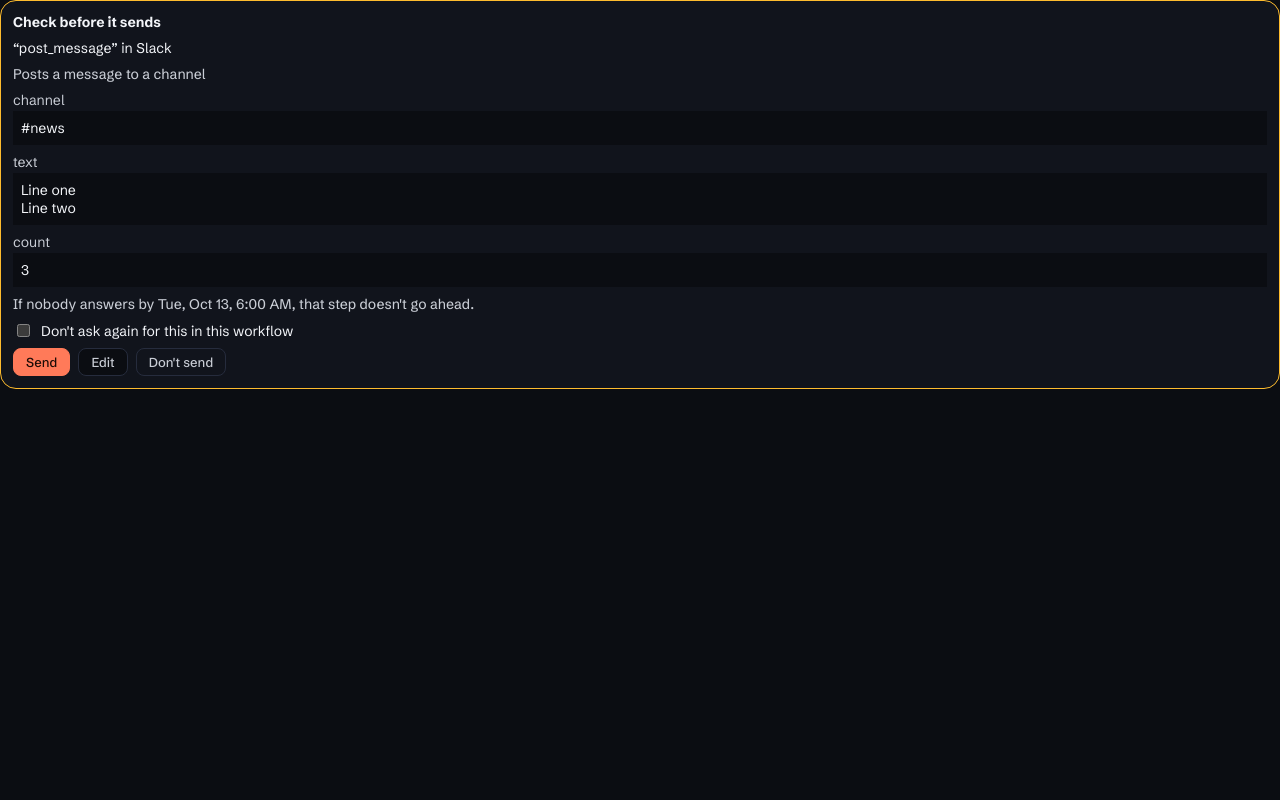
Test case: ActionCard › blocks sending invalid JSON and shows why
The image size is (1280, 800).
Click the button "Edit" at (103, 362), box x1=78 y1=348 x2=128 y2=376
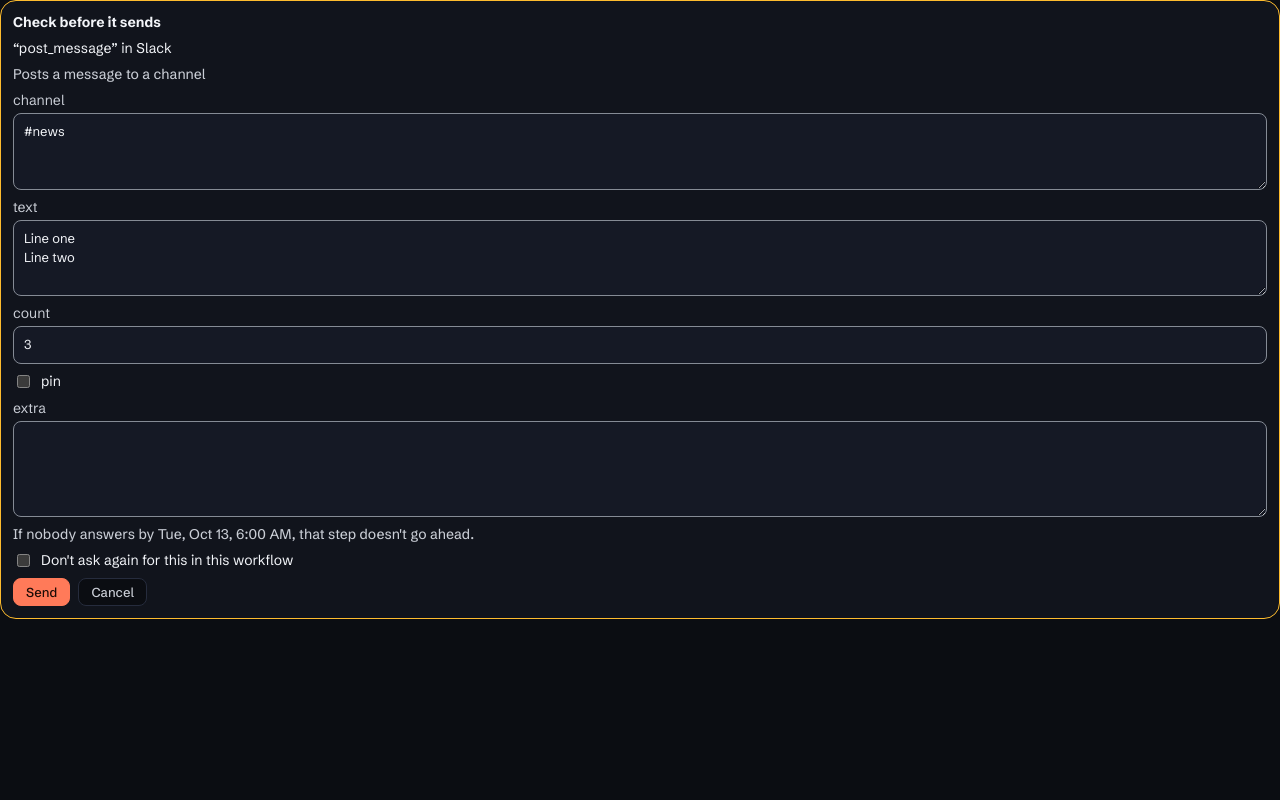
Type "[1," into the text box labelled "extra" at (640, 468), box x1=13 y1=420 x2=1267 y2=516
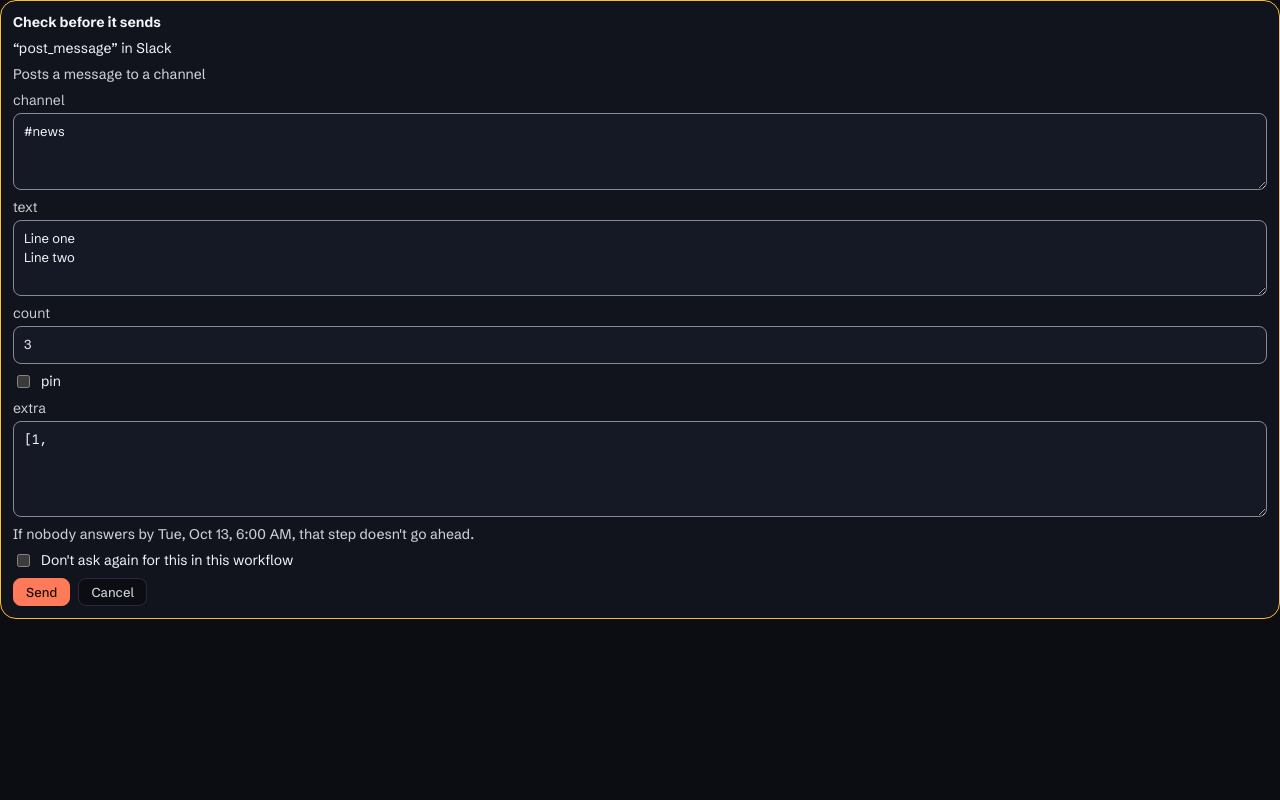
Click the button "Send" at (42, 592), box x1=13 y1=578 x2=70 y2=606
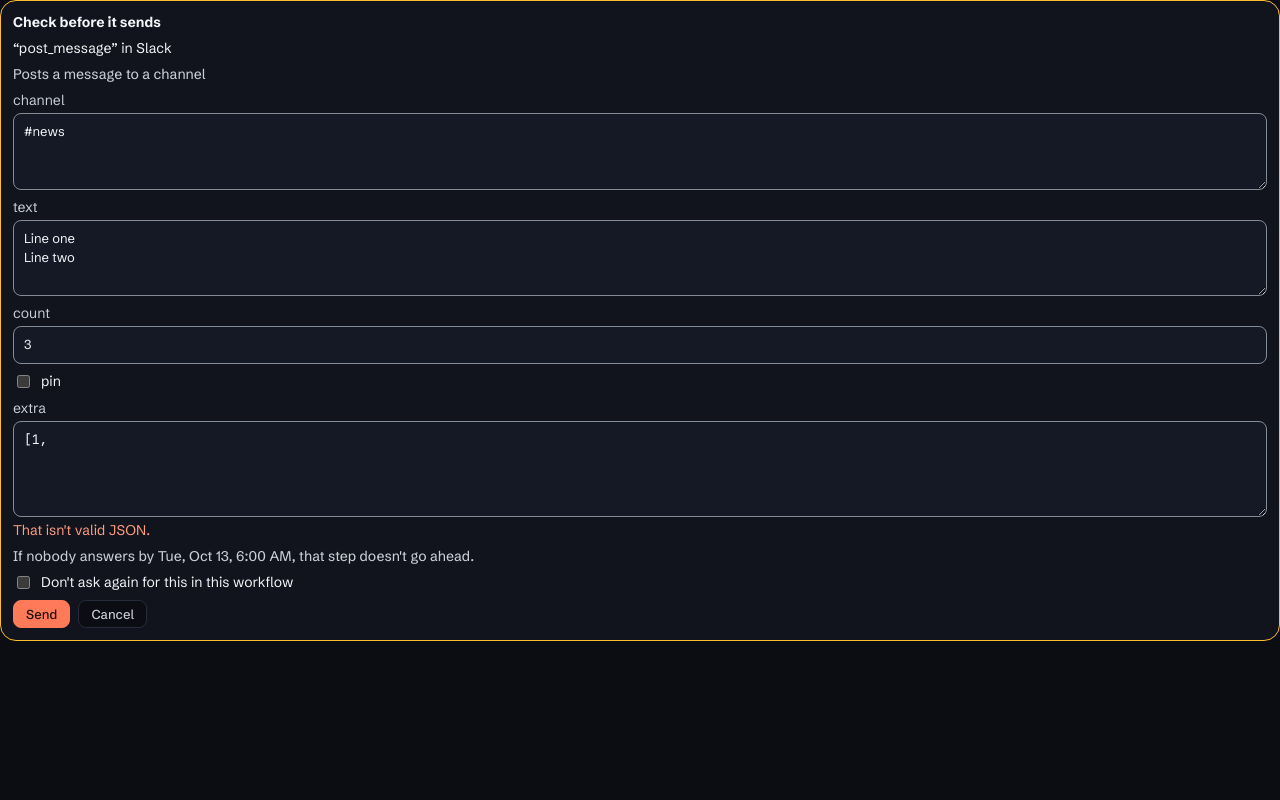
Now the message reads "That isn't valid JSON.", box x1=13 y1=520 x2=150 y2=538
